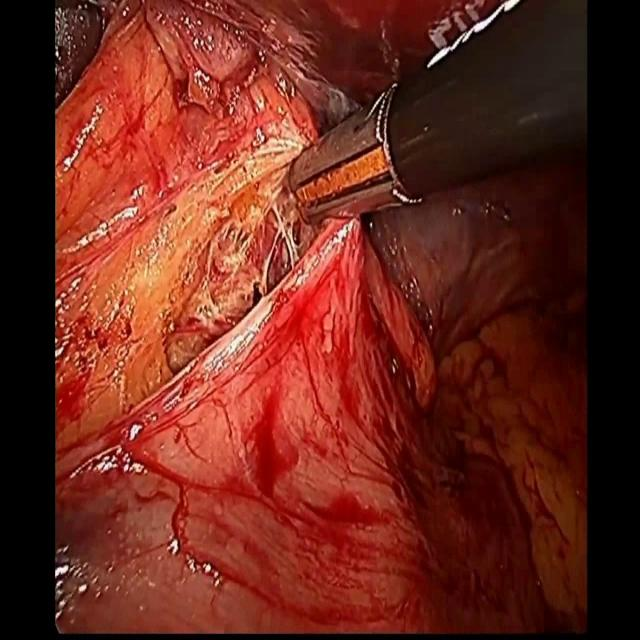surgical-area: (56, 0, 586, 634)
surgical-tool: (286, 0, 586, 221)
